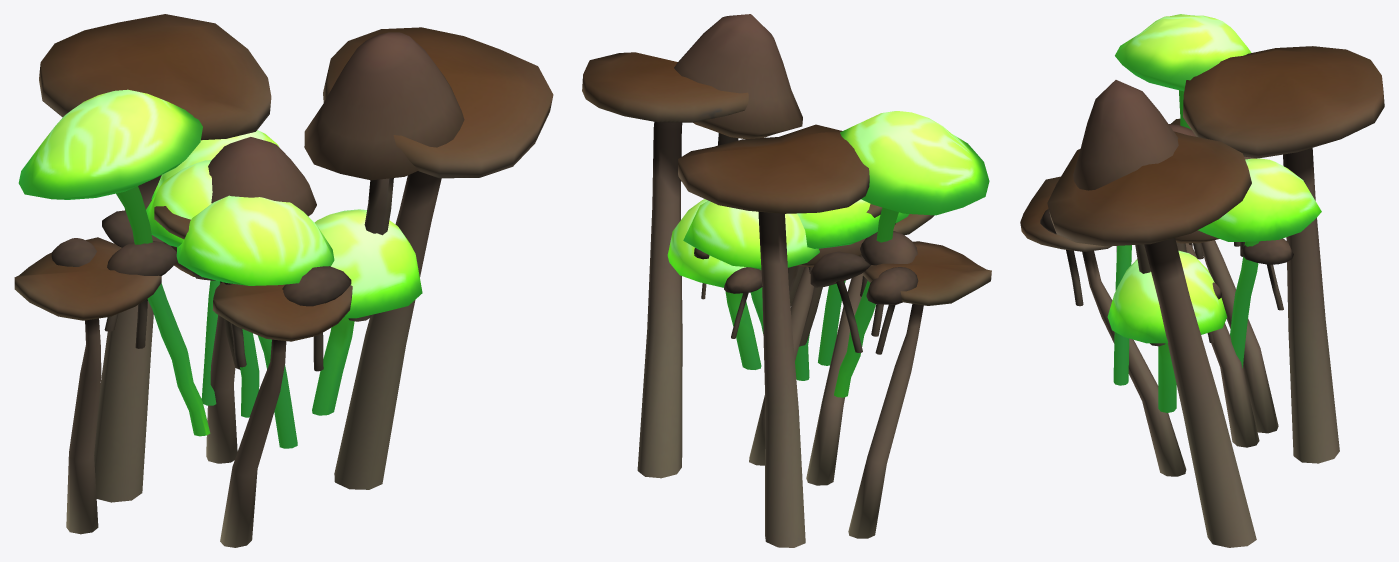
Rendered from mushrooms.gltf.
The picture shows the model from 3 angles, left to right: view 1: azimuth 30°, elevation 25°; view 2: azimuth 150°, elevation 25°; view 3: azimuth 270°, elevation 25°; orthographic projection. The views are drawn at different scales.
Parts seen in each view (by area): view 1: EN_Mushroom_RectangularLong_LP_Cluster, EN_Mushroom_RoundMid_LP_Cluster, EN_Mushroom_RoundSmall_LP_Cluster, EN_Mushroom_RoundMid_LP_Single, EN_Mushroom_RectangularLong_LP_Single; view 2: EN_Mushroom_RectangularLong_LP_Cluster, EN_Mushroom_RoundMid_LP_Cluster, EN_Mushroom_RoundSmall_LP_Cluster, EN_Mushroom_RoundMid_LP_Single, EN_Mushroom_RectangularLong_LP_Single, EN_Mushroom_RoundSmall_LP_Single; view 3: EN_Mushroom_RectangularLong_LP_Cluster, EN_Mushroom_RoundMid_LP_Cluster, EN_Mushroom_RoundSmall_LP_Cluster, EN_Mushroom_RectangularLong_LP_Single.
Boxes of the visible parts, x1,y1,x2,y2 form: EN_Mushroom_RectangularLong_LP_Cluster: (14,14,553,547); EN_Mushroom_RoundMid_LP_Cluster: (18,89,422,448); EN_Mushroom_RoundSmall_LP_Cluster: (51,32,464,371); EN_Mushroom_RoundMid_LP_Single: (146,160,259,417); EN_Mushroom_RectangularLong_LP_Single: (154,206,237,463); EN_Mushroom_RectangularLong_LP_Cluster: (582,52,991,547); EN_Mushroom_RoundMid_LP_Cluster: (667,111,989,397); EN_Mushroom_RoundSmall_LP_Cluster: (674,14,918,354); EN_Mushroom_RoundMid_LP_Single: (795,199,880,380); EN_Mushroom_RectangularLong_LP_Single: (749,204,882,465); EN_Mushroom_RoundSmall_LP_Single: (797,238,865,346); EN_Mushroom_RectangularLong_LP_Cluster: (1020,46,1384,547); EN_Mushroom_RoundMid_LP_Cluster: (1107,14,1321,412); EN_Mushroom_RoundSmall_LP_Cluster: (1040,80,1293,346); EN_Mushroom_RectangularLong_LP_Single: (1185,243,1259,447).
Size of the model in its own units: 0.5957 by 0.5784 by 0.433.
Materials: 1 (1 with a texture image).
